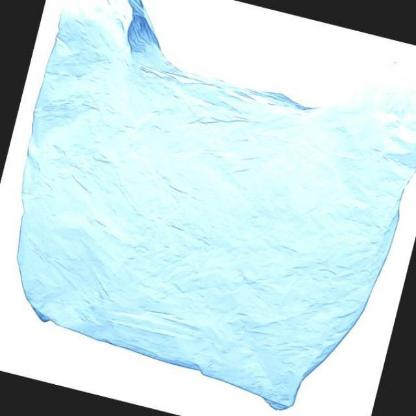Plastic Bag: (16, 0, 414, 410)
